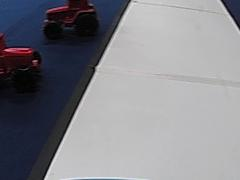Tracktor: (0, 35, 43, 89), (41, 0, 98, 38)
